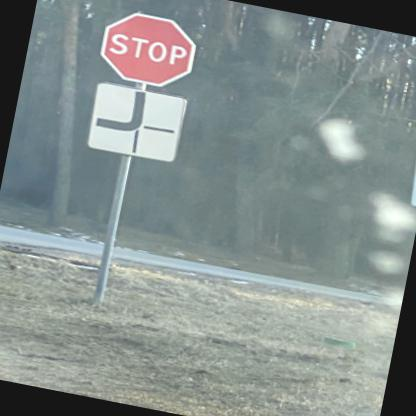stop: (95, 6, 198, 90)
